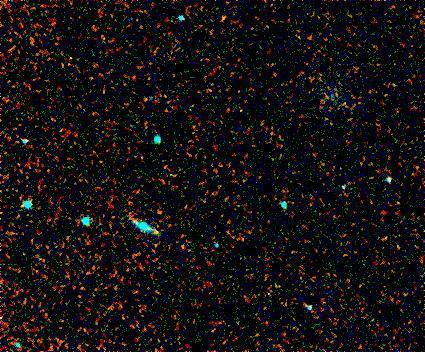star: (135, 216, 165, 246)
